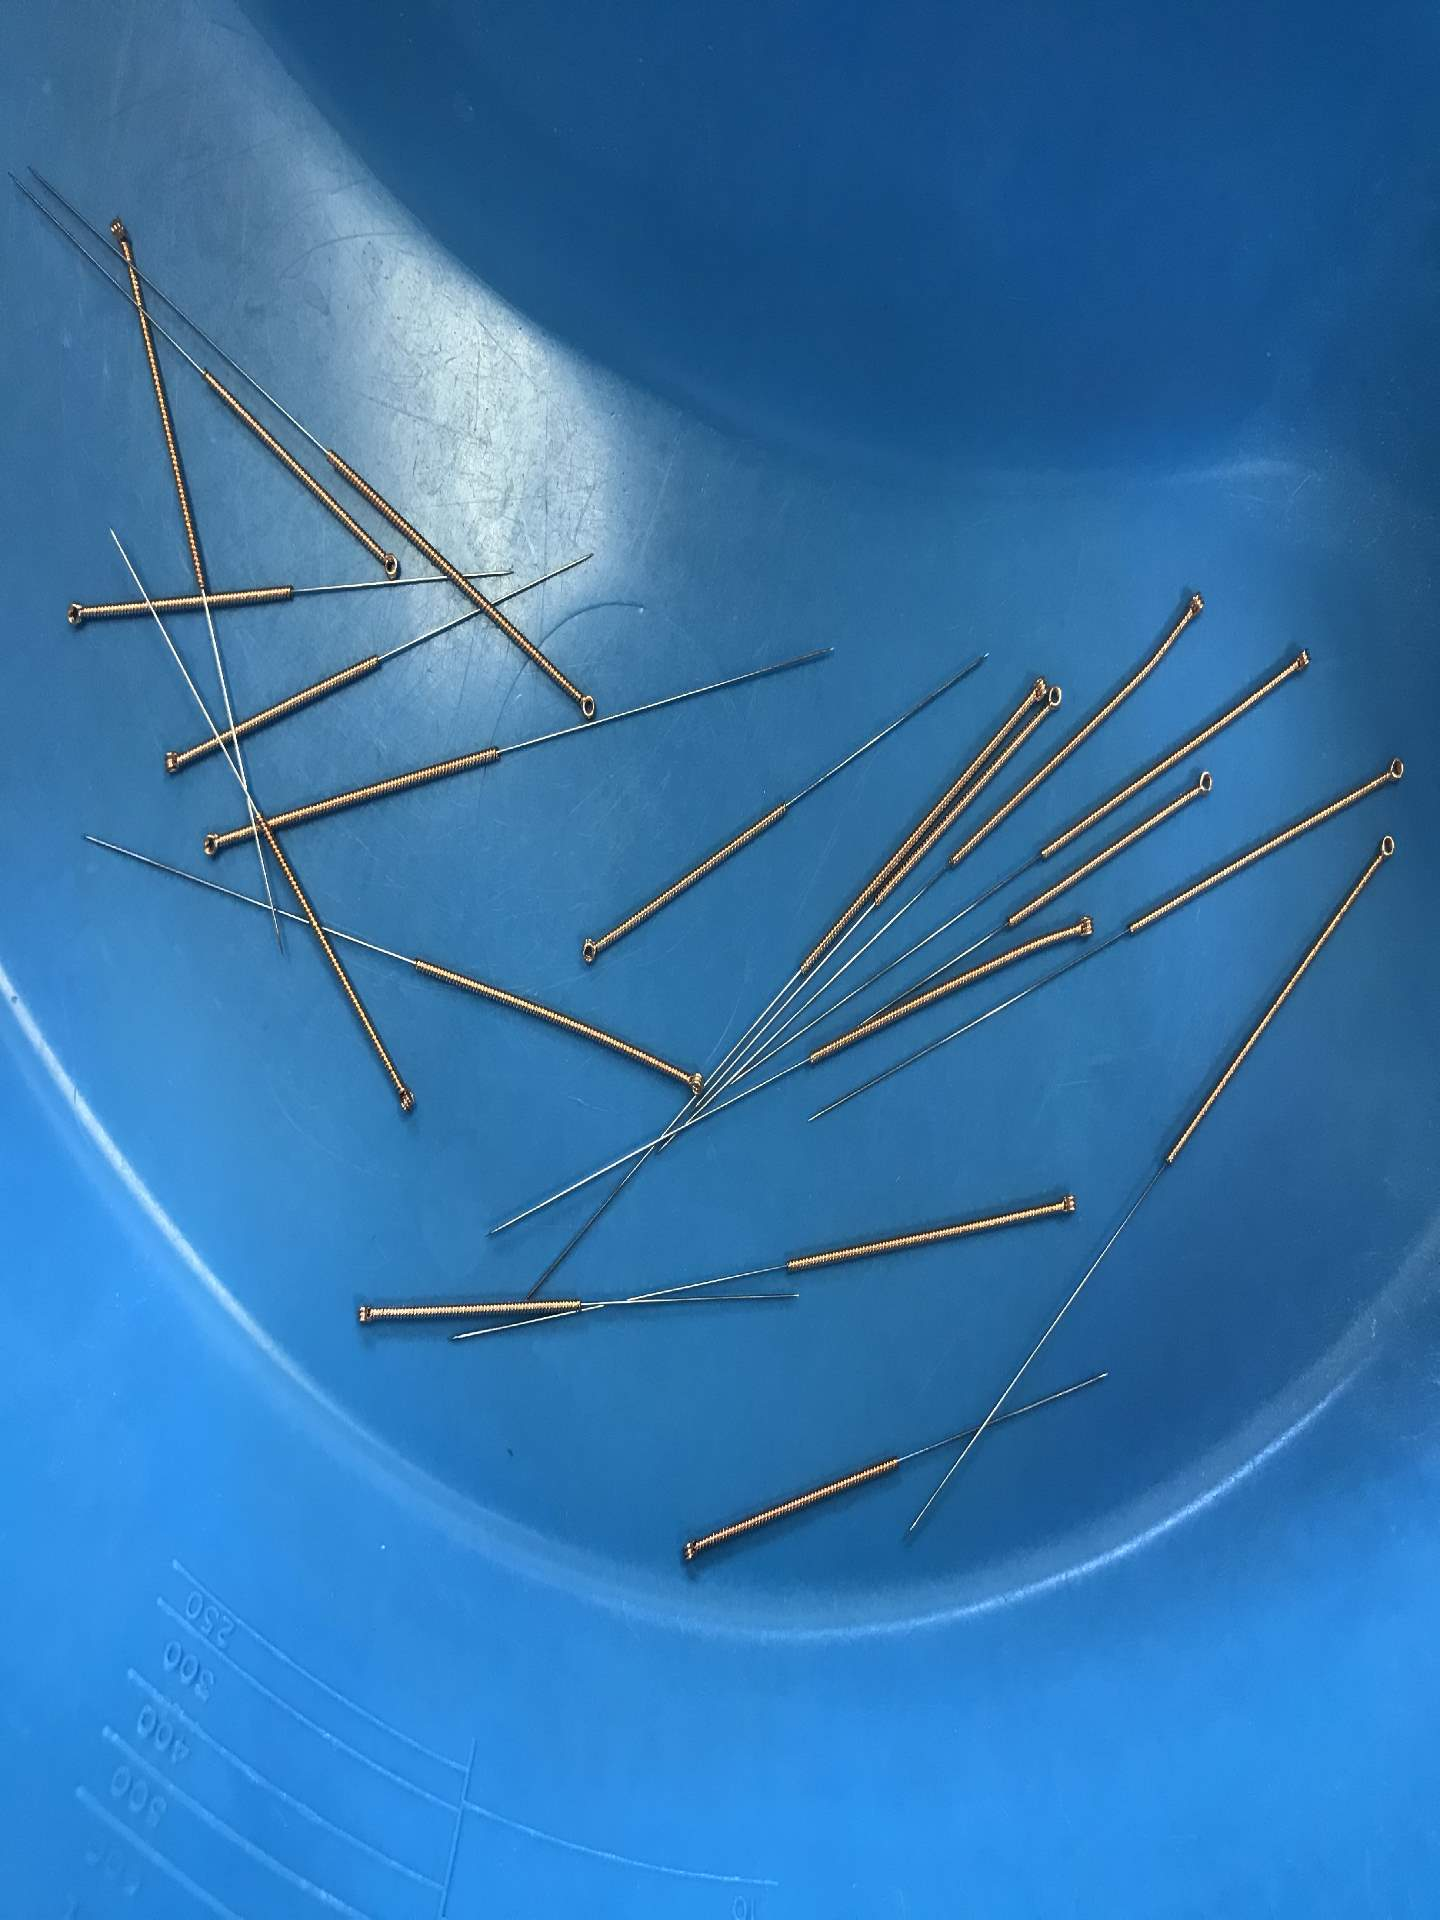needle: (192, 822, 231, 865), (572, 928, 610, 972), (1376, 747, 1414, 791), (1178, 581, 1212, 629), (670, 1531, 711, 1569), (56, 594, 92, 636), (104, 207, 138, 252), (343, 1296, 383, 1333), (1044, 1185, 1085, 1222), (154, 741, 191, 782), (1370, 824, 1402, 869), (566, 682, 601, 723), (369, 541, 404, 581), (1187, 763, 1222, 803), (1063, 909, 1103, 943), (389, 1078, 422, 1119), (1283, 643, 1319, 677), (1044, 674, 1069, 721), (1021, 664, 1048, 708)
